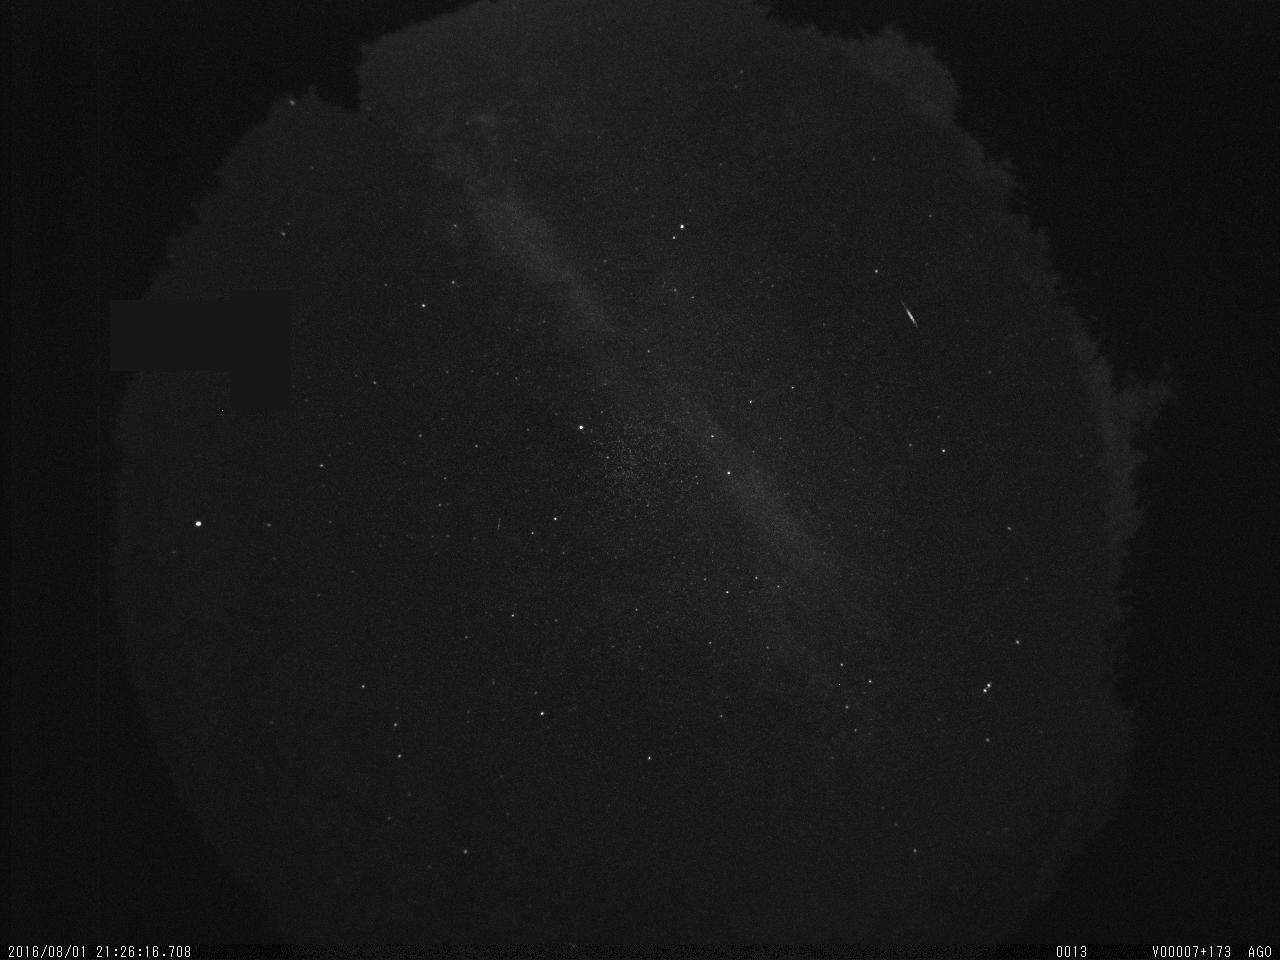Meteor: (900, 298, 920, 327)
